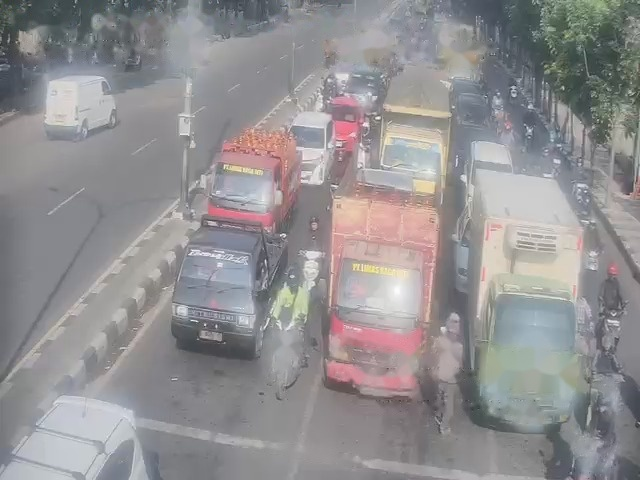Mobil: (168, 225, 280, 356), (45, 68, 116, 141), (467, 136, 514, 191), (300, 112, 332, 182), (322, 92, 359, 151)
Motor: (602, 299, 620, 354), (272, 324, 288, 385), (570, 433, 594, 469), (524, 121, 542, 158), (601, 375, 623, 403), (303, 246, 314, 282), (591, 246, 600, 283), (574, 176, 589, 198), (578, 213, 589, 239), (552, 153, 564, 171), (539, 167, 553, 182), (357, 141, 366, 164), (510, 86, 520, 103), (493, 104, 499, 126)
Truk: (332, 179, 441, 398), (205, 119, 298, 233), (379, 68, 458, 196)
